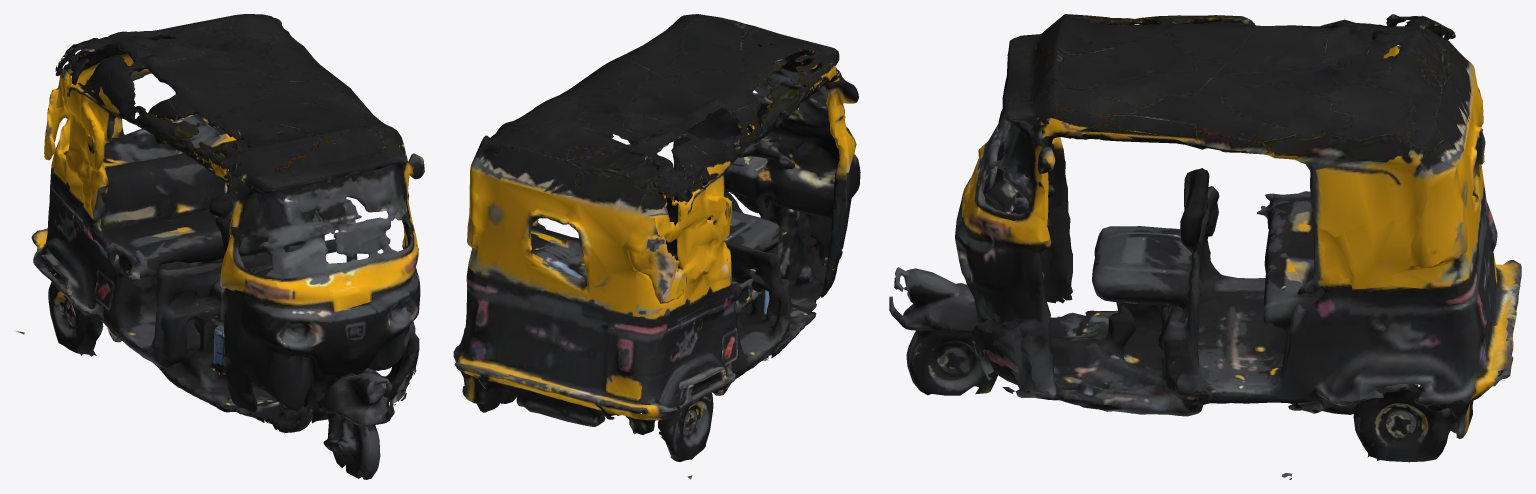
File: tuktuk.glb
3 views of the same model, side by side, from view 1: azimuth 30°, elevation 25°; view 2: azimuth 150°, elevation 25°; view 3: azimuth 270°, elevation 25° (orthographic). The views are drawn at different scales.
Bounding box in the file's own units: 1.56 × 1.67 × 2.75.
1 material, 1 textured.
